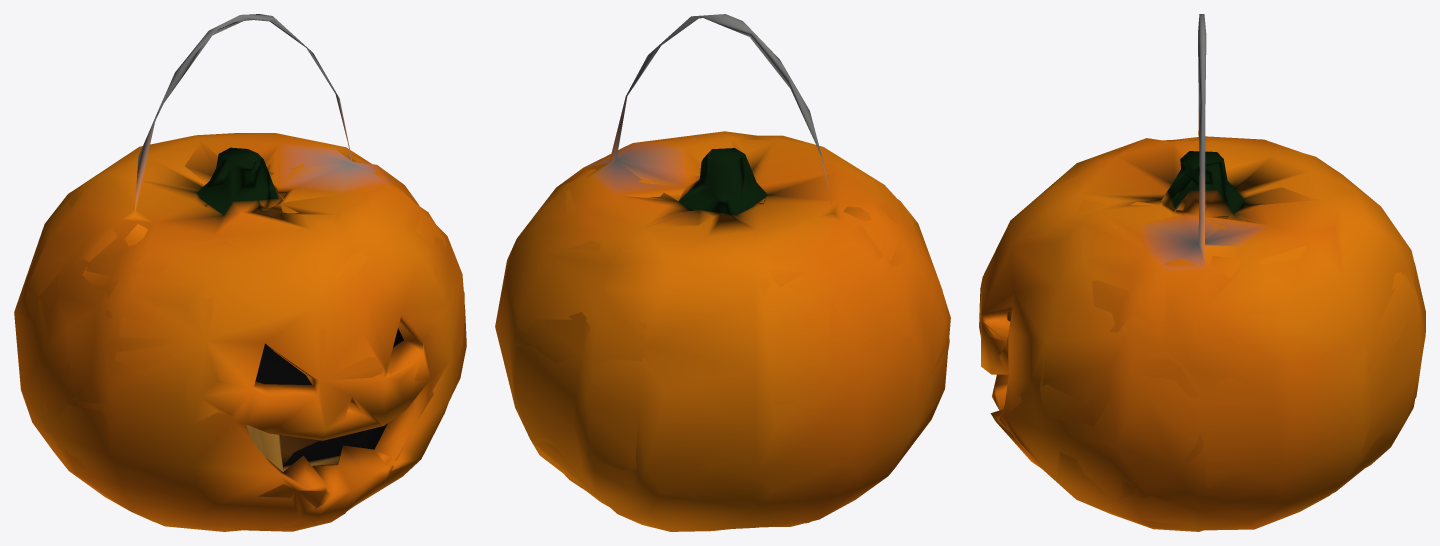
Rendered from gen3d-pumpkin-lantern-lod1.glb.
The picture shows the model from 3 angles, left to right: view 1: azimuth 30°, elevation 25°; view 2: azimuth 150°, elevation 25°; view 3: azimuth 270°, elevation 25°; orthographic projection.
Parts seen in each view (by area): view 1: part_0; view 2: part_0; view 3: part_0.
Boxes of the visible parts, x1,y1,x2,y2 form: part_0: (14, 14, 466, 531); part_0: (495, 14, 950, 531); part_0: (979, 14, 1425, 531).
Bounding box in the file's own units: 0.8518 × 0.999 × 0.8511.
